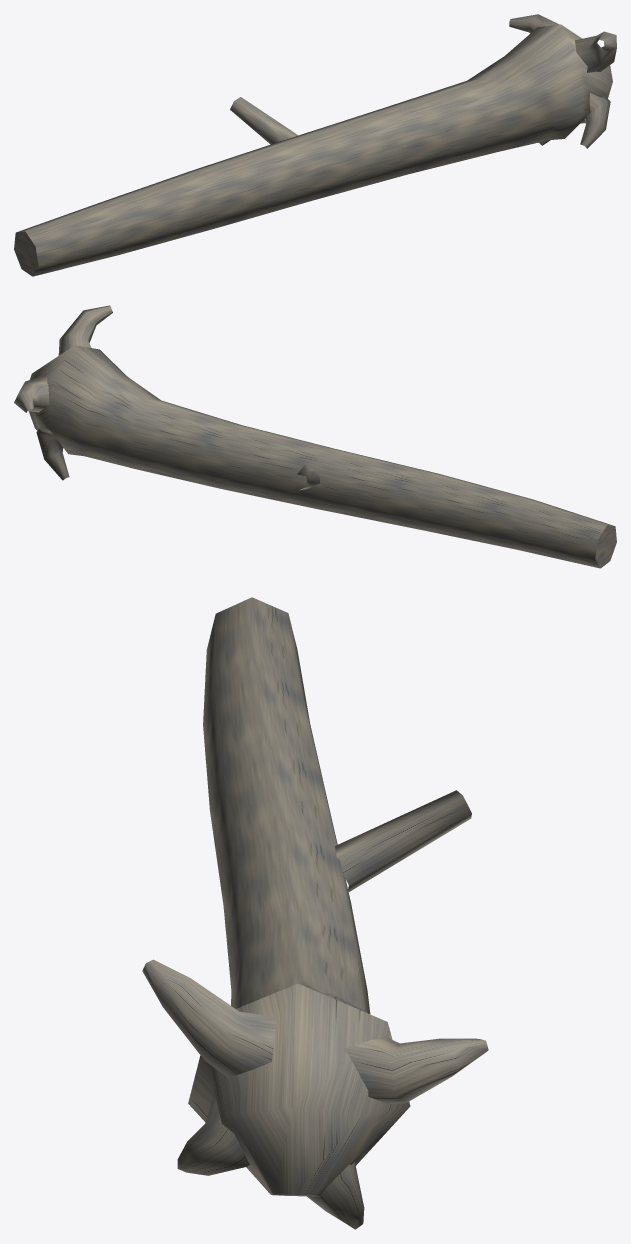
Rendered from driftwood.glb.
The picture shows the model from 3 angles, top to bottom: view 1: azimuth 30°, elevation 25°; view 2: azimuth 150°, elevation 25°; view 3: azimuth 270°, elevation 25°; orthographic projection. The views are drawn at different scales.
Parts seen in each view (by area): view 1: driftwood; view 2: driftwood; view 3: driftwood.
Part boxes in pixels (x1,y1,x2,y2): driftwood: (14,14,616,276); driftwood: (14,305,616,568); driftwood: (142,597,488,1229).
Bounding box in the file's own units: 3.09 × 0.7129 × 0.8193.
1 material, 1 textured.
